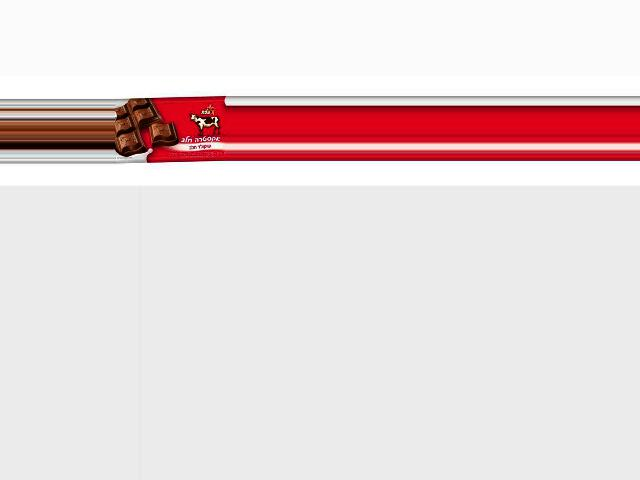chocolate: (116, 97, 227, 162)
